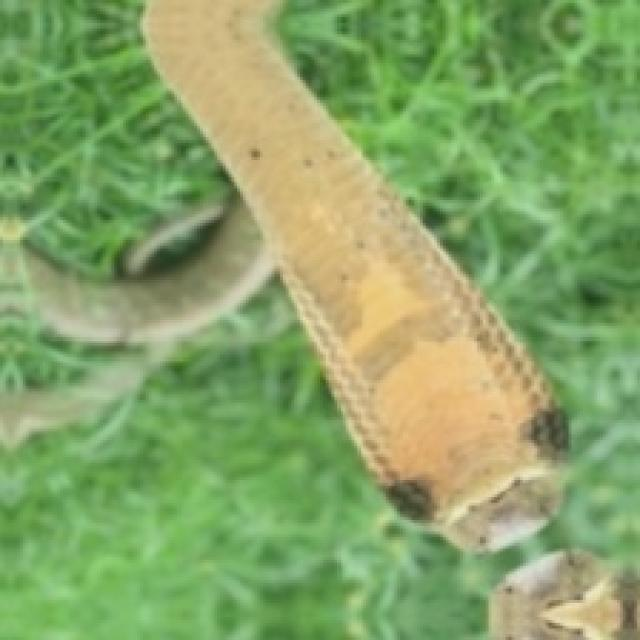king cobra: (143, 0, 563, 549), (146, 0, 560, 546)
